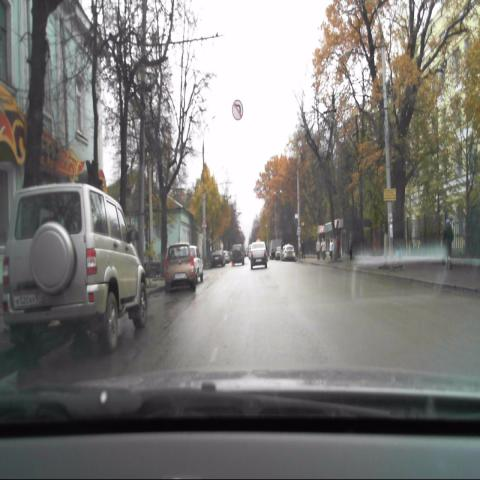3_18_2: (232, 99, 244, 120)
